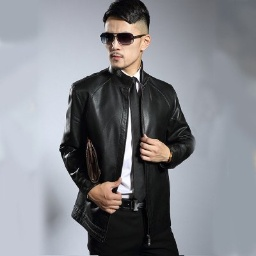face: (101, 1, 152, 71)
